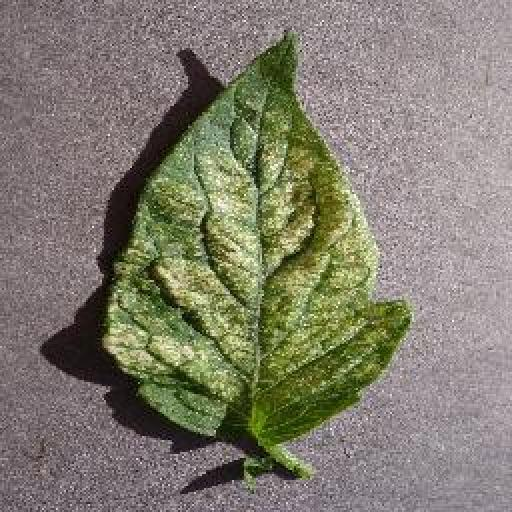disease_tomato: (106, 29, 410, 440)
